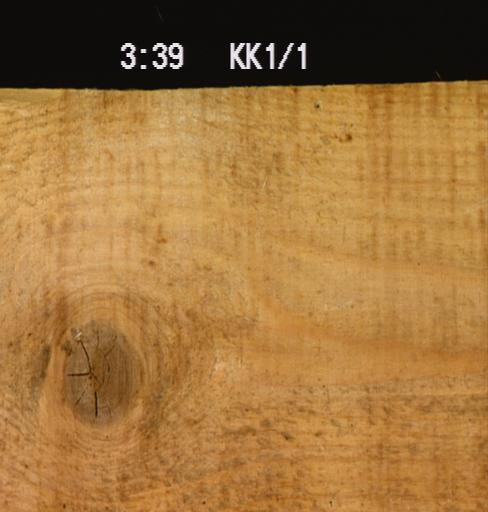sound_knot: (54, 315, 149, 428)
